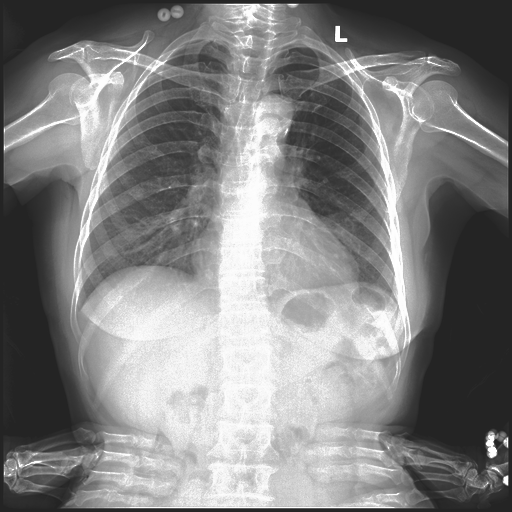Calcification: (204, 33, 234, 52)
Consolidation: (259, 94, 294, 139)
Lung Opacity: (284, 127, 288, 138)
Nodule/Mass: (189, 232, 362, 290)
